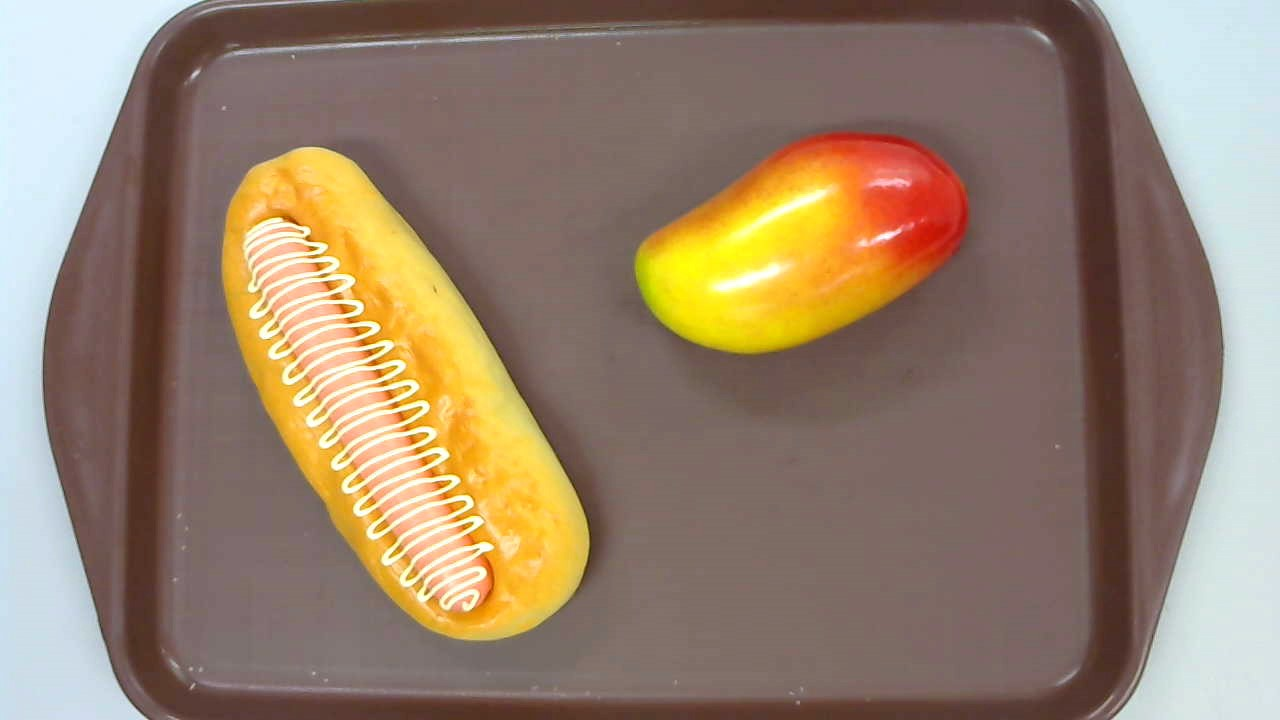hot dog: (221, 147, 589, 642)
red mango: (634, 131, 971, 354)
